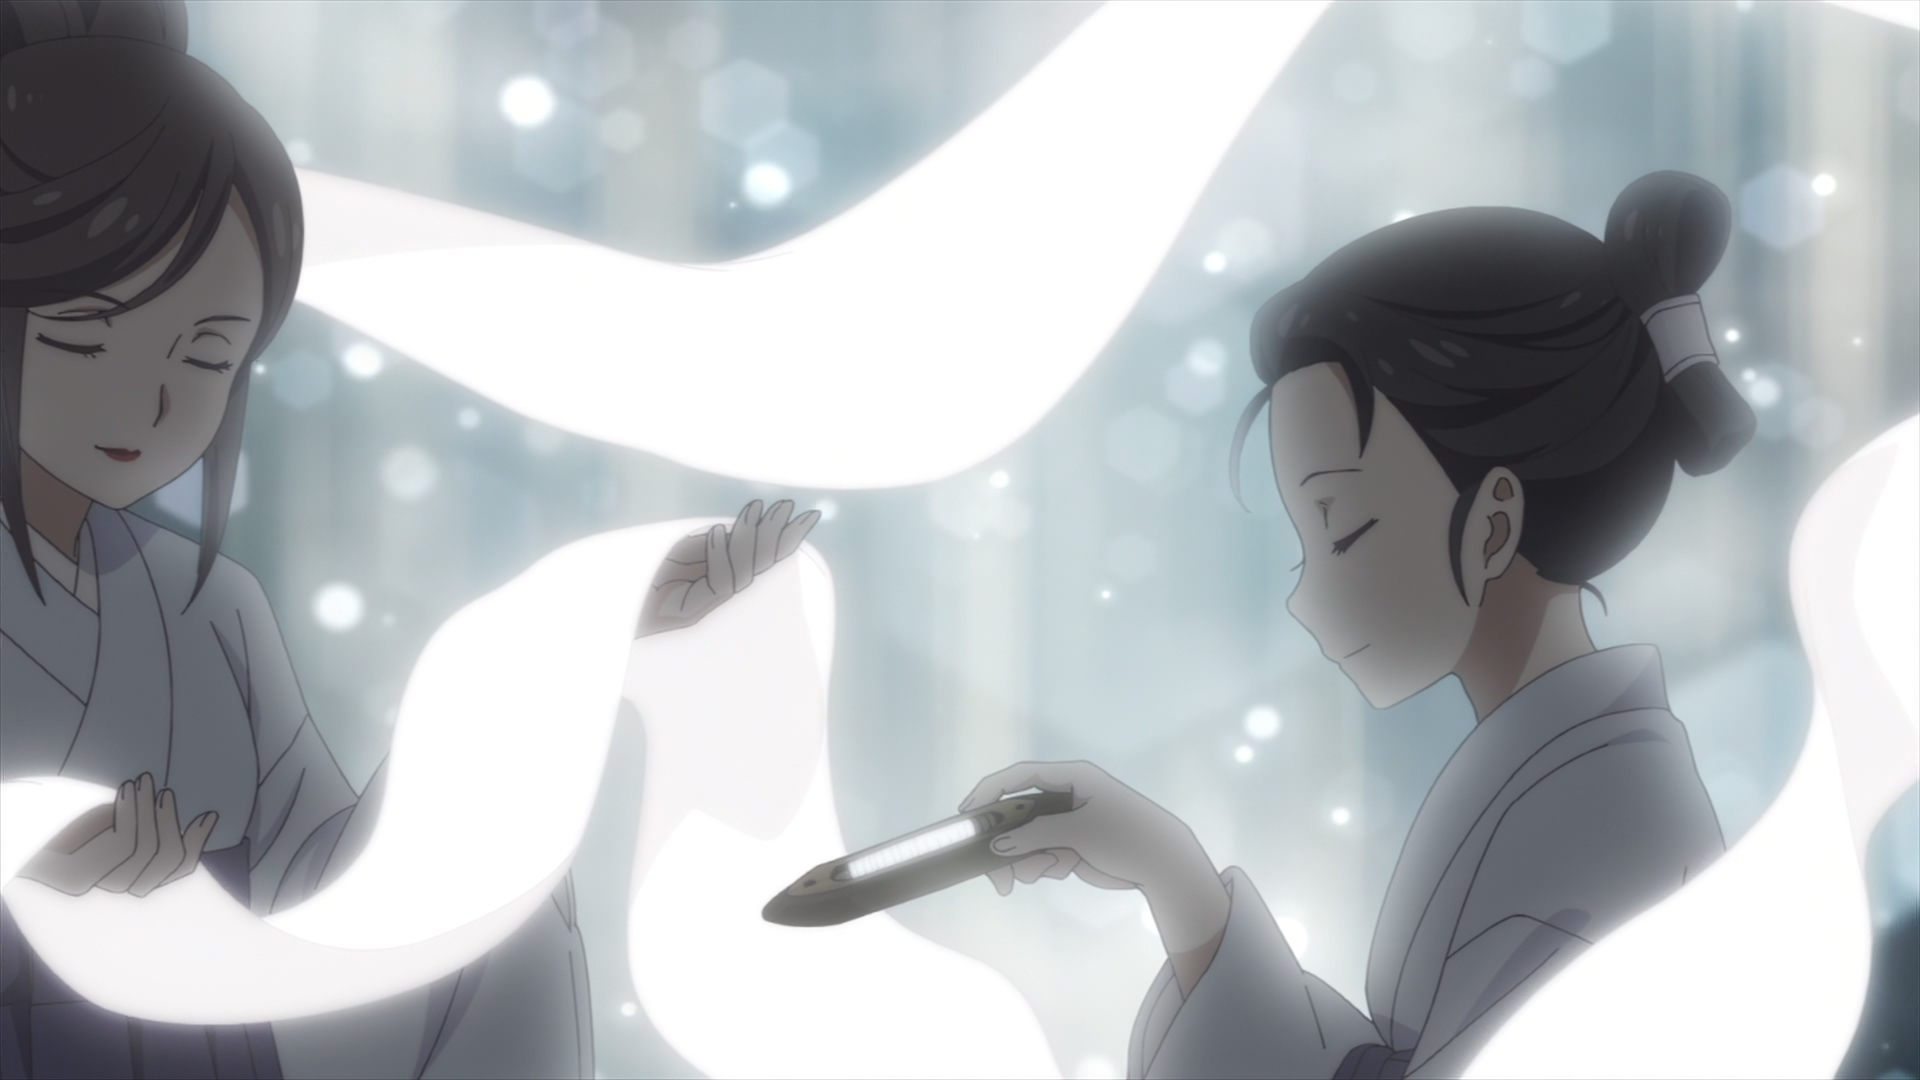其他: (1, 1, 820, 1080), (960, 173, 1756, 1080)
